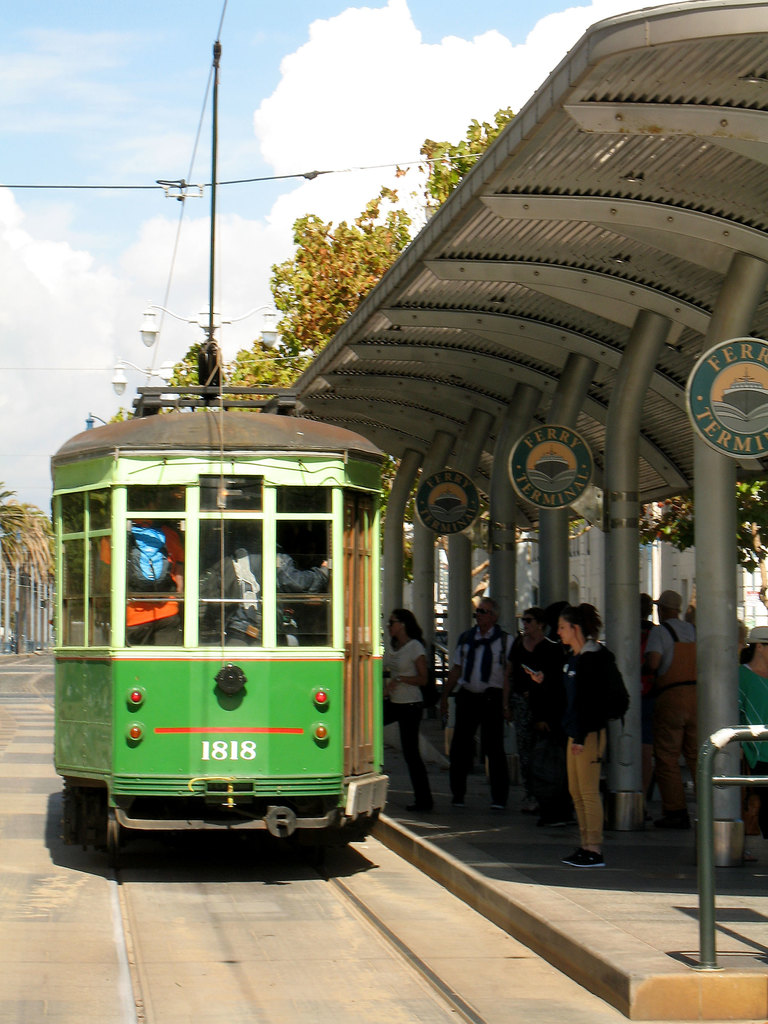Footwear: (572, 849, 606, 866), (406, 799, 430, 810), (537, 817, 563, 826), (490, 796, 506, 810), (447, 798, 465, 808)
